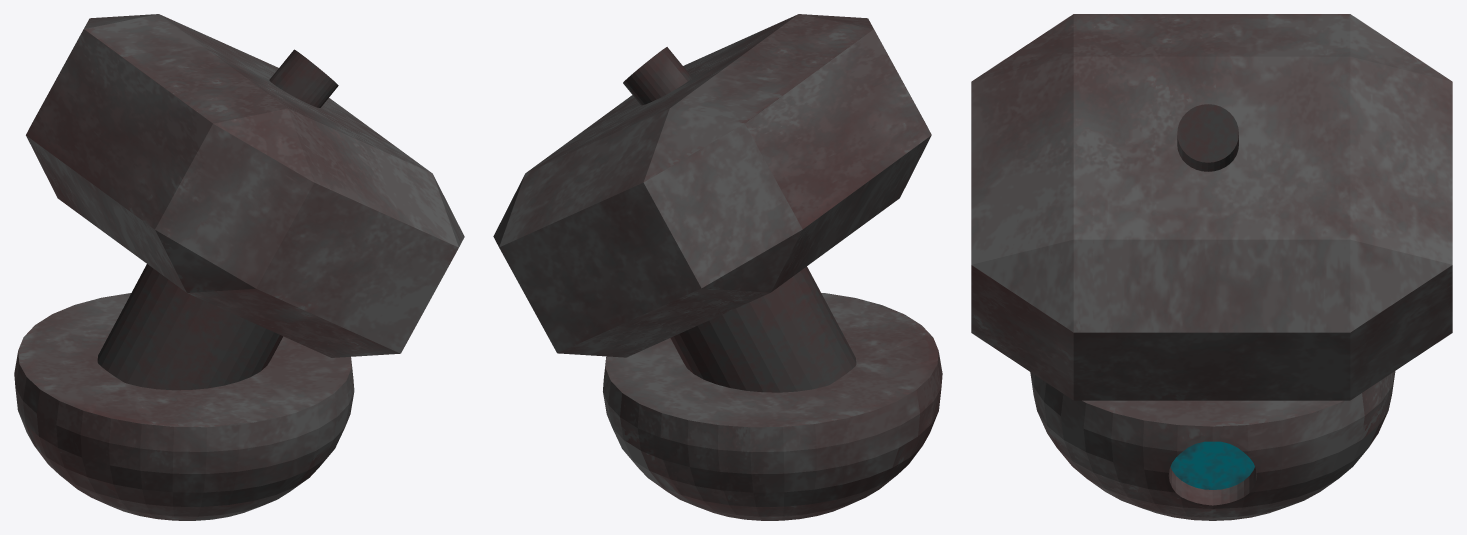
File: Upper_body.fbx
3 views of the same model, side by side, from view 1: azimuth 30°, elevation 25°; view 2: azimuth 150°, elevation 25°; view 3: azimuth 270°, elevation 25° (orthographic). The views are drawn at different scales.
Visible parts, largest first — view 1: 胴; view 2: 胴; view 3: 胴.
Boxes of the visible parts, x1,y1,x2,y2 form: 胴: [14, 14, 464, 520]; 胴: [493, 14, 942, 520]; 胴: [971, 14, 1452, 520].
Size of the model in its own units: 2547 by 2912 by 2731.
1 material, 1 textured.
